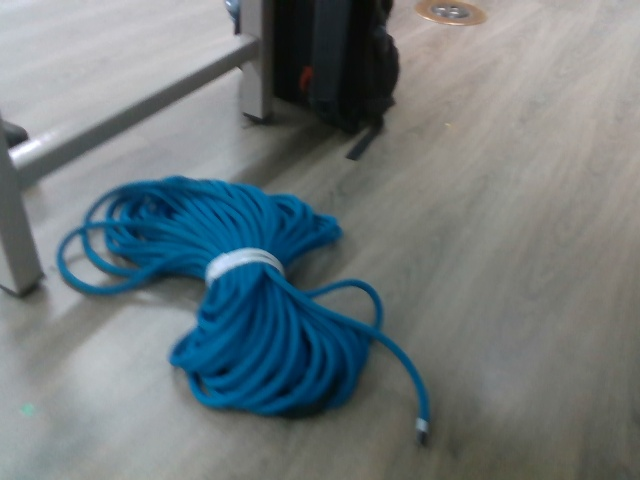rope: (47, 167, 454, 455)
